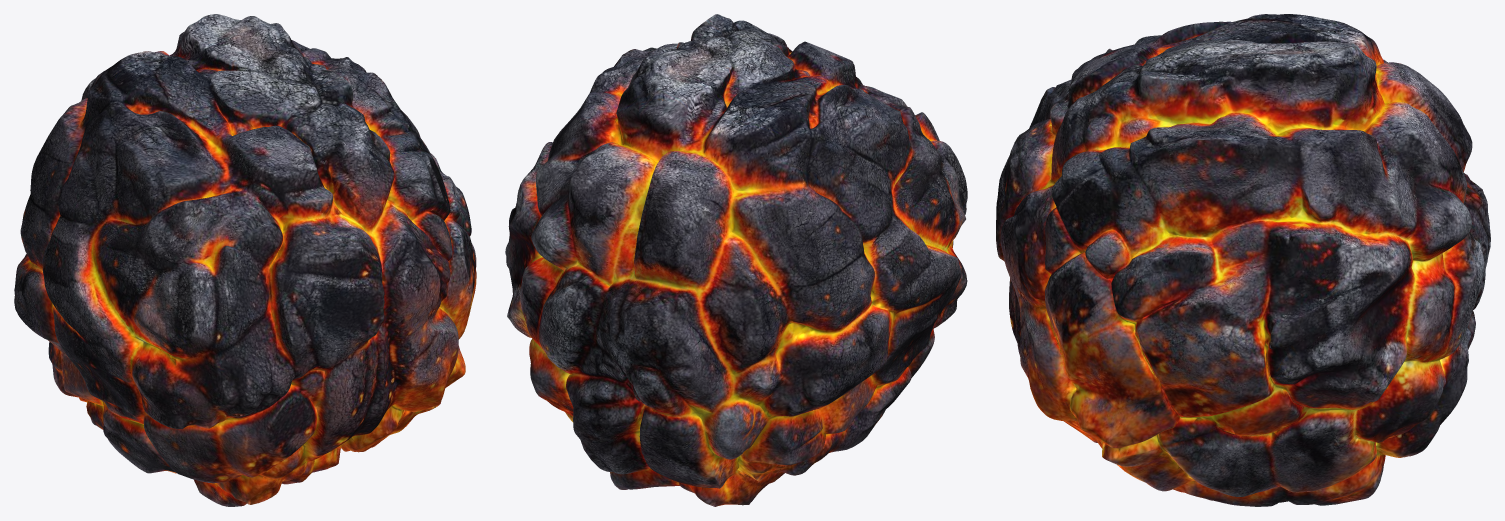
The model's file is meteor_infernal.glb.
3 renders of one model, left to right at view 1: azimuth 30°, elevation 25°; view 2: azimuth 150°, elevation 25°; view 3: azimuth 270°, elevation 25°, orthographic. The views are drawn at different scales.
Parts seen in each view (by area): view 1: mesh_node; view 2: mesh_node; view 3: mesh_node.
Boxes of the visible parts, x1,y1,x2,y2 form: mesh_node: (14, 14, 476, 506); mesh_node: (505, 14, 967, 506); mesh_node: (996, 14, 1490, 506).
Bounding box in the file's own units: 1.78 × 1.9 × 1.87.
1 material, 1 textured.
